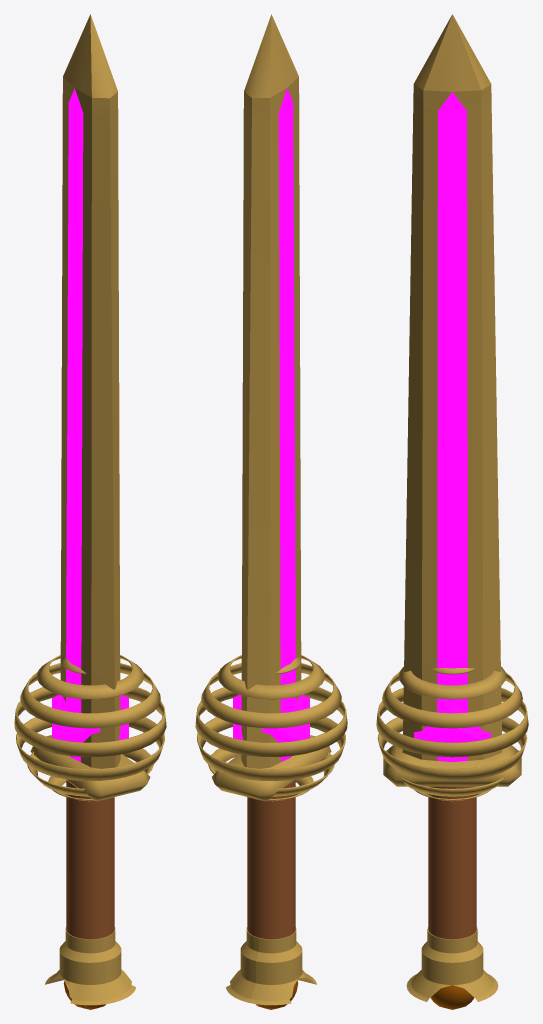
The model's file is blade.fbx.
3 renders of one model, left to right at view 1: azimuth 30°, elevation 25°; view 2: azimuth 150°, elevation 25°; view 3: azimuth 270°, elevation 25°, orthographic.
Visible parts, largest first — view 1: bladeofsword, rainguardofsword, handle, bottomofsword; view 2: bladeofsword, rainguardofsword, handle, bottomofsword; view 3: bladeofsword, rainguardofsword, handle, bottomofsword.
Boxes of the visible parts, x1=… form: bladeofsword: x1=60, y1=14, x2=120, y2=768; rainguardofsword: x1=14, y1=655, x2=166, y2=801; handle: x1=66, y1=780, x2=114, y2=939; bottomofsword: x1=45, y1=927, x2=135, y2=1009; bladeofsword: x1=241, y1=14, x2=301, y2=768; rainguardofsword: x1=195, y1=655, x2=347, y2=801; handle: x1=247, y1=780, x2=295, y2=939; bottomofsword: x1=226, y1=927, x2=316, y2=1009; bladeofsword: x1=402, y1=14, x2=502, y2=761; rainguardofsword: x1=376, y1=666, x2=528, y2=801; handle: x1=428, y1=786, x2=476, y2=939; bottomofsword: x1=406, y1=927, x2=498, y2=1009.
Bounding box in the file's own units: 83.75 × 602 × 83.75.
